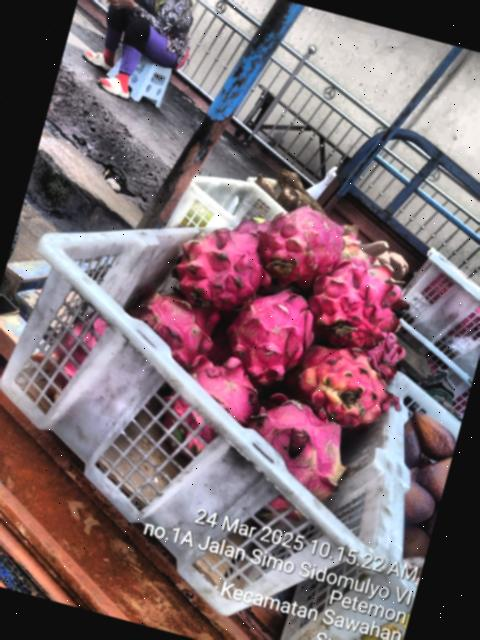buah-naga-belum-matang: (234, 388, 364, 496), (286, 332, 400, 436)
buah-naga-matang: (218, 270, 318, 386), (169, 214, 280, 316), (308, 252, 406, 354), (118, 282, 222, 372), (254, 198, 351, 291), (180, 348, 268, 430), (364, 330, 407, 384)
